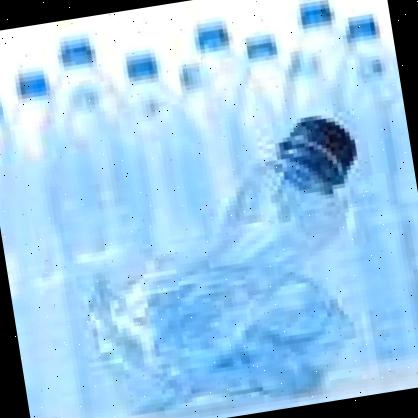bottle: (44, 111, 397, 418)
cap: (286, 102, 366, 178)
